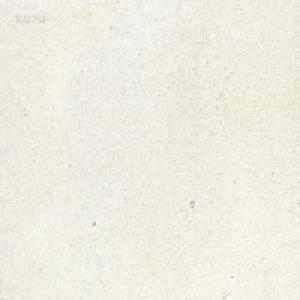Washer: (189, 199, 194, 208)
